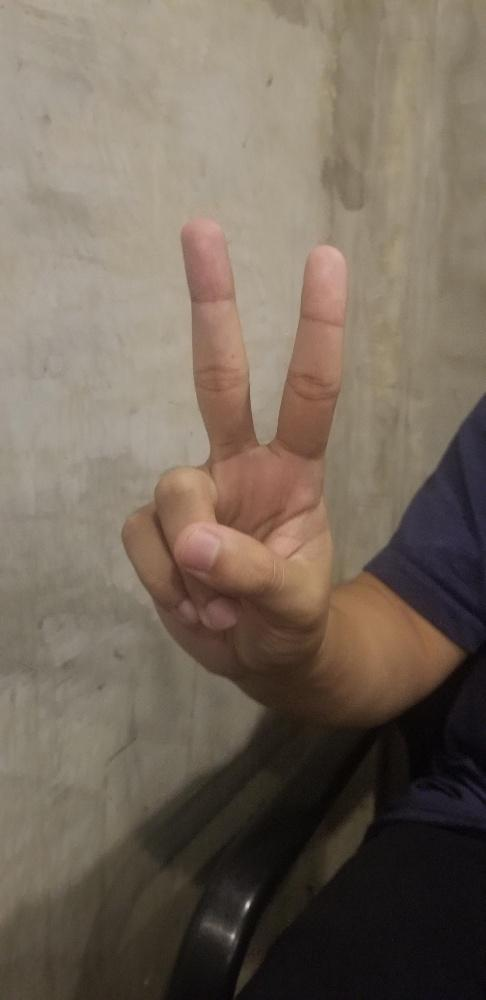v: (117, 215, 350, 681)
